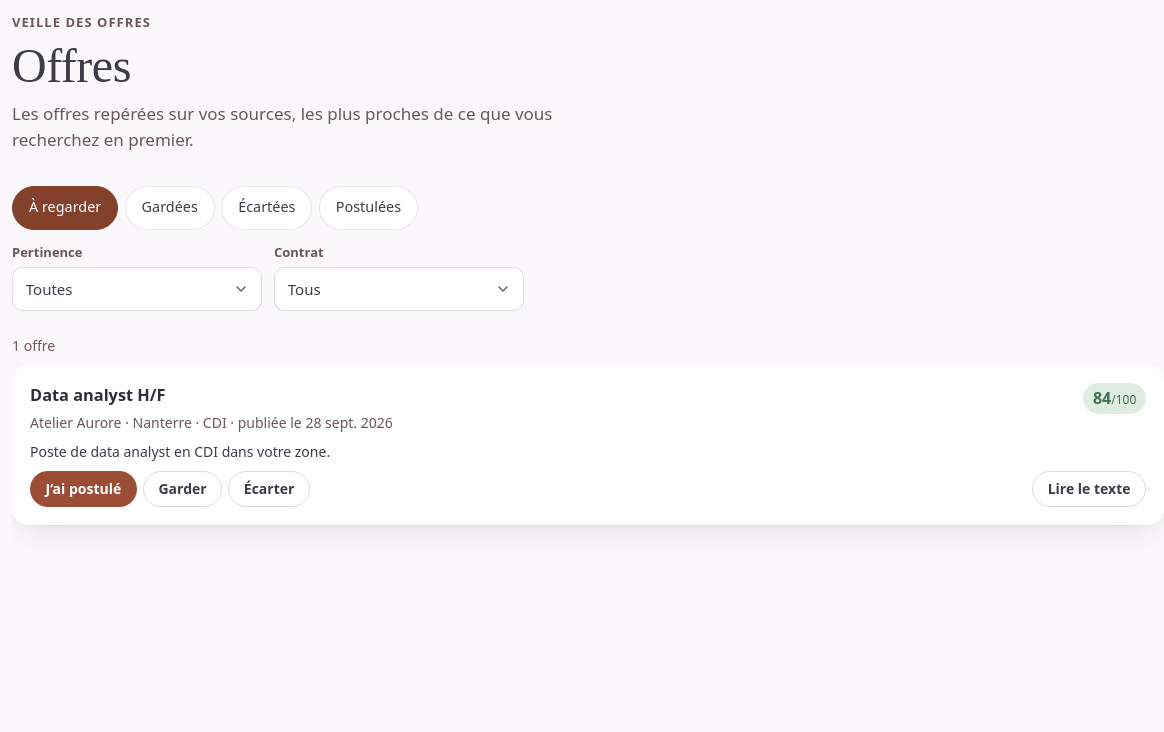
it: OffersPage › [EF-VEI-18] keeps a kept offer in view, marked so
Click the button "Garder". click: {"x": 183, "y": 489}
box: [143, 471, 222, 507]
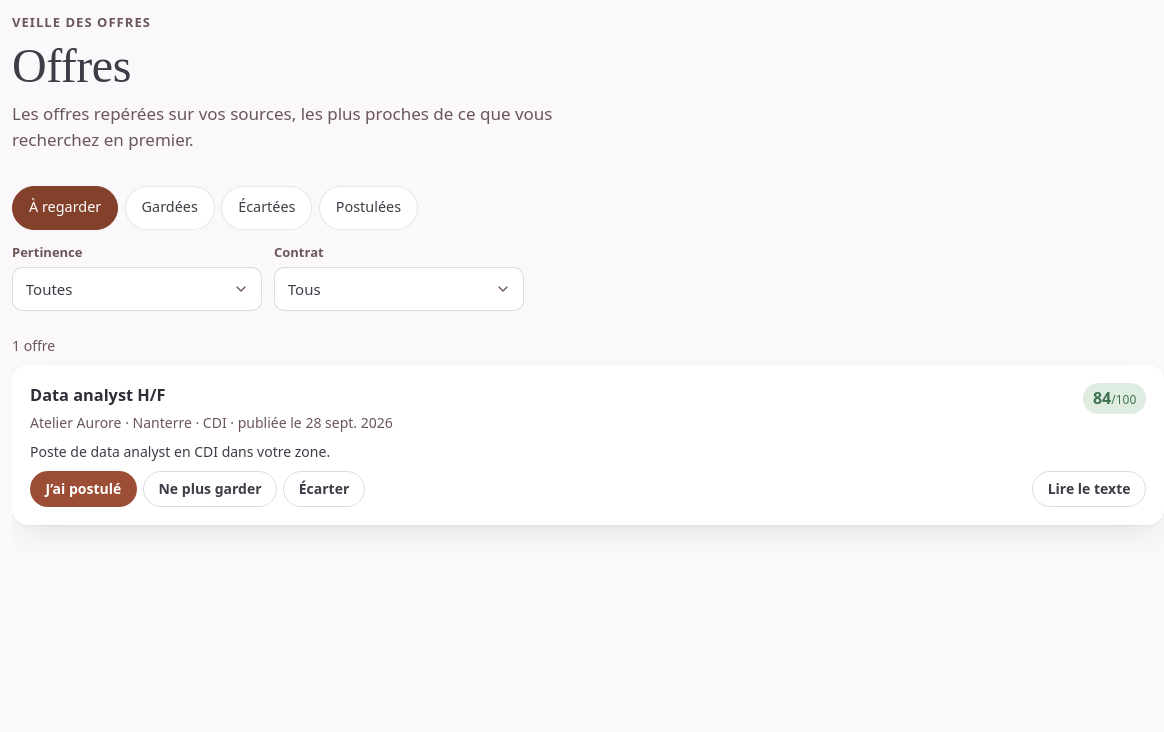
expect the button "Ne plus garder" is shown: met, box [143, 471, 277, 507]
